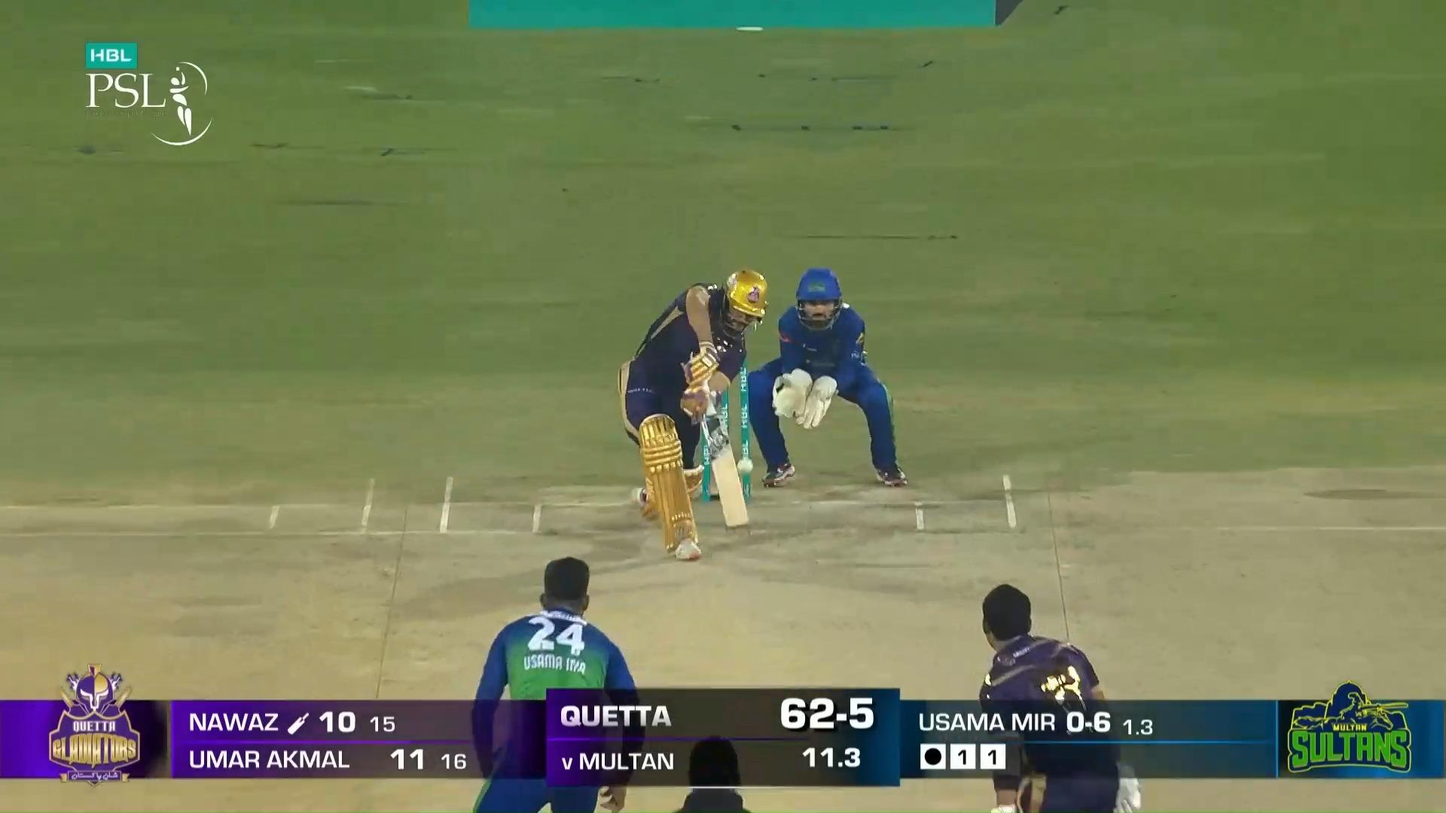batsman: (620, 269, 769, 565)
